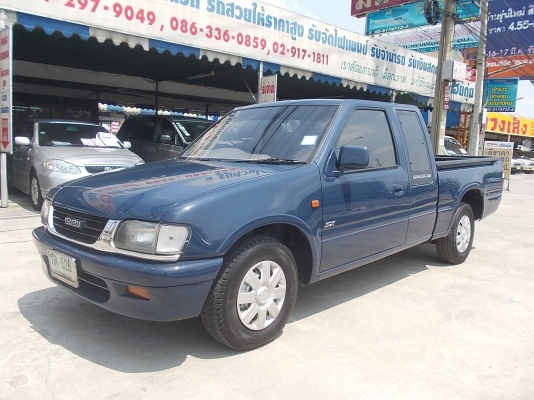pickup: (33, 97, 507, 352)
